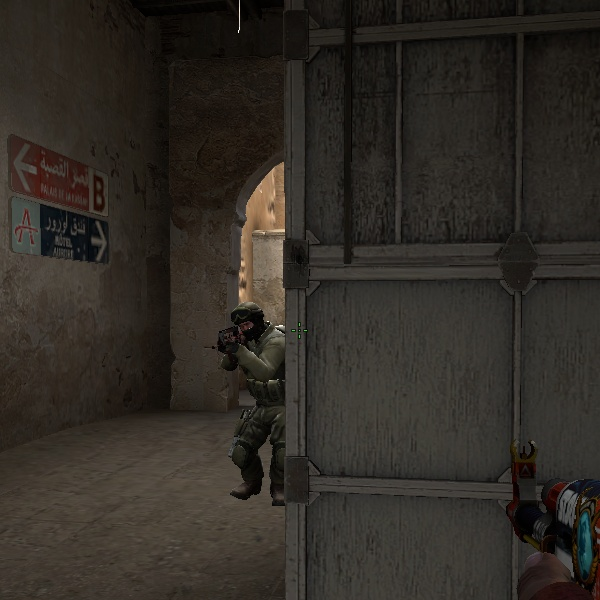ct_body: (202, 298, 292, 510)
ct_head: (226, 304, 268, 347)
